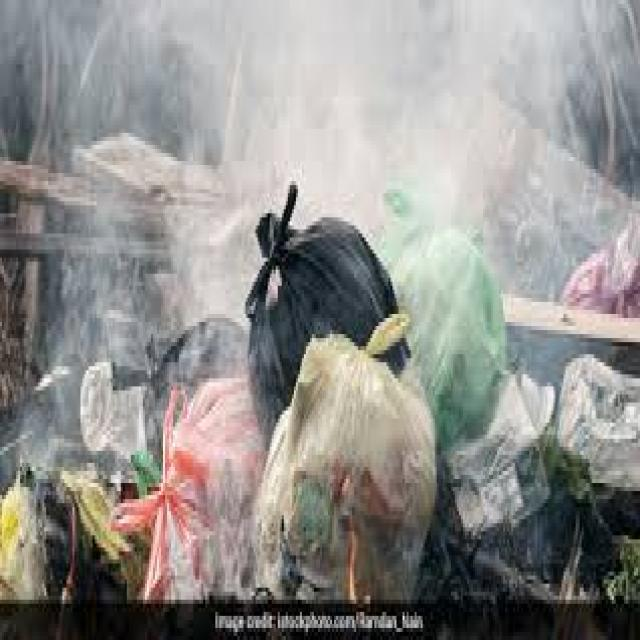plastic_bag: (249, 202, 400, 351), (144, 295, 246, 399)
